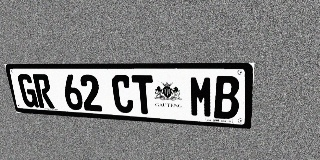2: (79, 74, 102, 111)
6: (61, 74, 84, 110)
B: (214, 76, 240, 119)
C: (111, 75, 134, 113)
G: (17, 74, 39, 108)
M: (189, 76, 213, 118)
R: (32, 74, 55, 109)
T: (131, 75, 155, 115)
